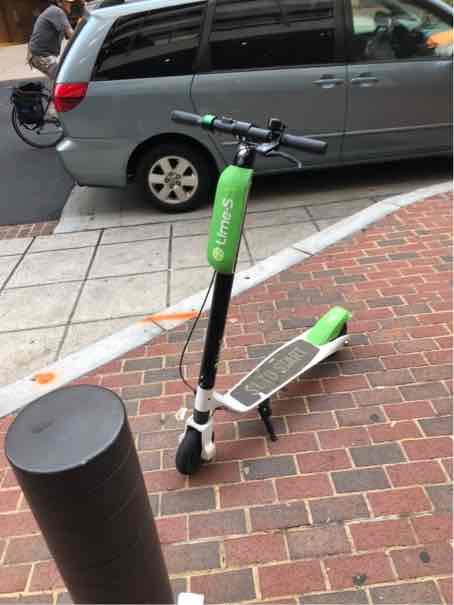scooter: (159, 102, 368, 484)
